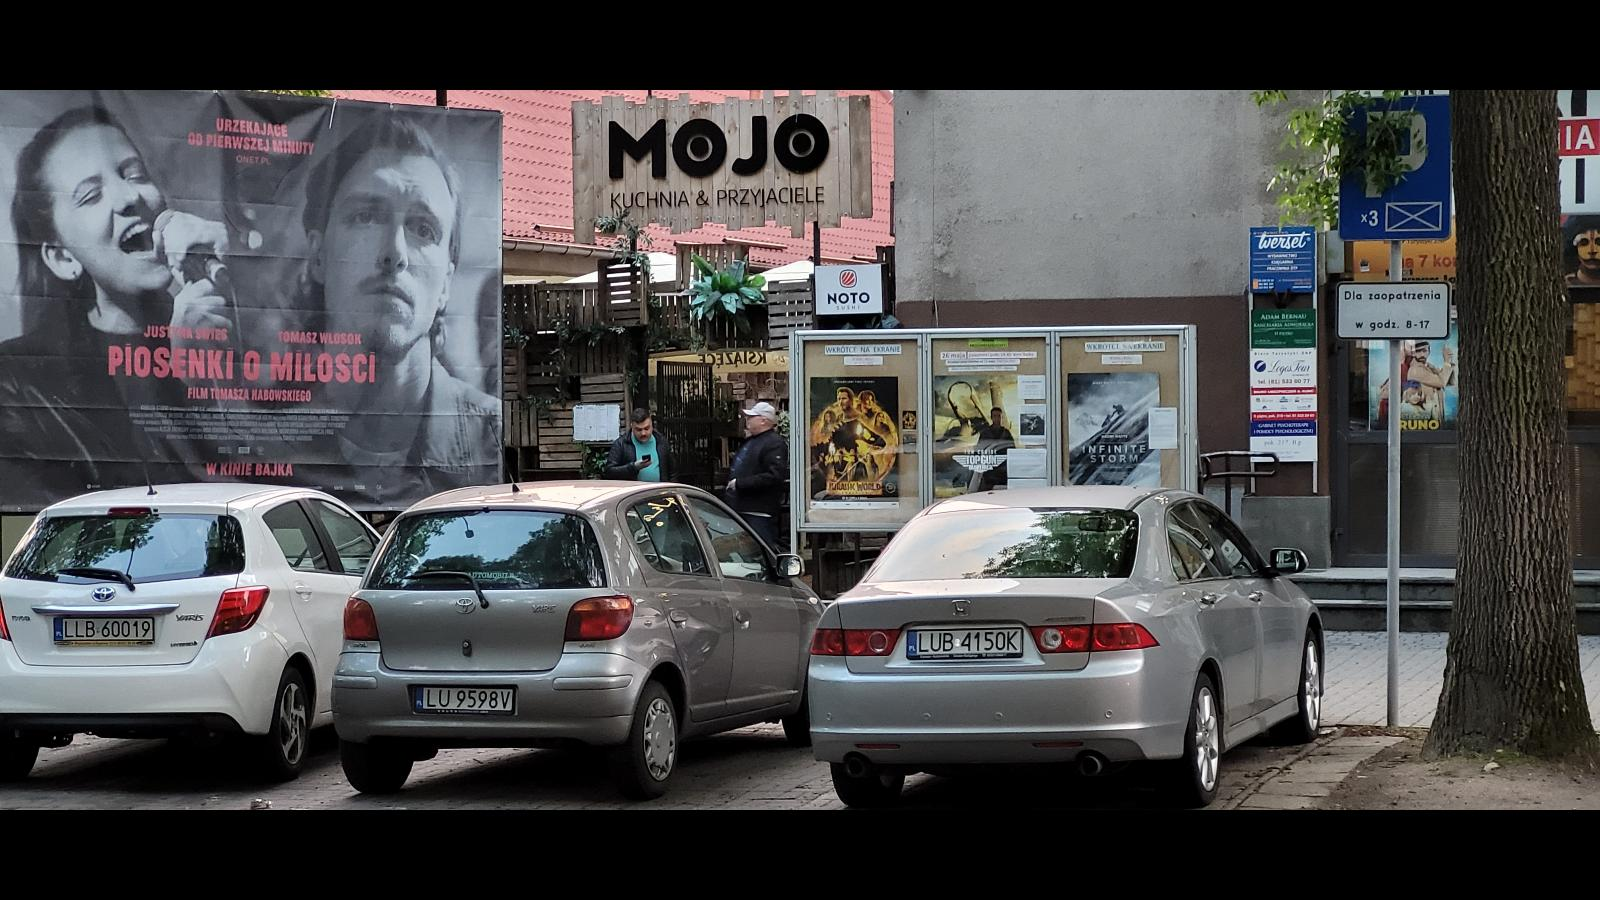plates: (907, 628, 1024, 660), (54, 617, 154, 645), (414, 686, 514, 714)
